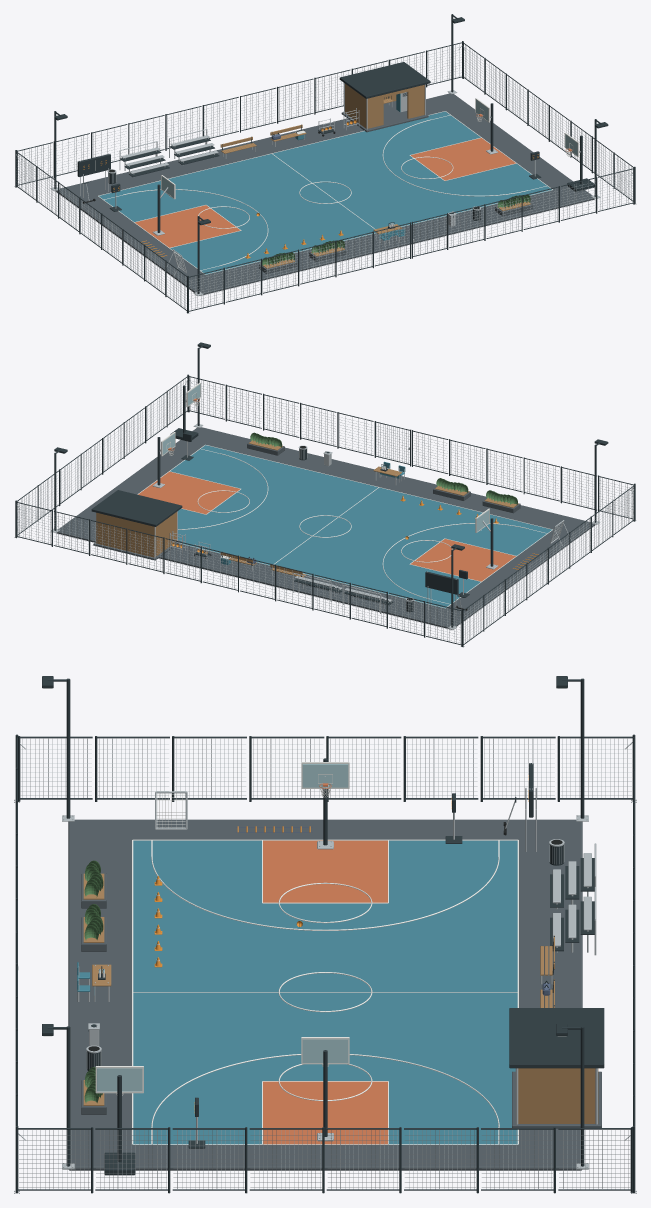
Rendered from park_bench.glb.
3 renders of one model, top to bottom at view 1: azimuth 30°, elevation 25°; view 2: azimuth 150°, elevation 25°; view 3: azimuth 270°, elevation 25°, orthographic. The views are drawn at different scales.
Visible parts, largest first — view 1: 000-marked-court-slab/1, 000-marked-court-slab/0, 000-marked-court-slab/2, 000-marked-court-slab/3, 003-changing-pavilion/2, 003-changing-pavilion/1, 003-changing-pavilion/0, 082-fence-straight/1, 011-scoreboard/1, 076-fence-straight/1, 077-fence-gate/1, 005-bleacher-section/0 (+21 smaller); view 2: 000-marked-court-slab/1, 000-marked-court-slab/0, 000-marked-court-slab/2, 003-changing-pavilion/1, 000-marked-court-slab/3, 003-changing-pavilion/2, 077-fence-gate/1, 062-fence-straight/1, 063-fence-straight/1, 053-fence-straight/1, 073-fence-straight/1, 059-fence-straight/1 (+19 smaller); view 3: 000-marked-court-slab/1, 000-marked-court-slab/0, 000-marked-court-slab/2, 000-marked-court-slab/3, 003-changing-pavilion/2, 003-changing-pavilion/1, 069-fence-straight/1, 089-fence-straight/1, 067-fence-straight/1, 070-fence-straight/1, 068-fence-straight/1, 065-fence-straight/1 (+23 smaller).
Part boxes in pixels (x1=…): 000-marked-court-slab/1: x1=98, y1=111, x2=551, y2=274; 000-marked-court-slab/0: x1=55, y1=93, x2=594, y2=295; 000-marked-court-slab/2: x1=135, y1=138, x2=515, y2=247; 000-marked-court-slab/3: x1=98, y1=111, x2=552, y2=274; 003-changing-pavilion/2: x1=339, y1=62, x2=430, y2=99; 003-changing-pavilion/1: x1=345, y1=84, x2=424, y2=128; 003-changing-pavilion/0: x1=341, y1=101, x2=428, y2=132; 082-fence-straight/1: x1=226, y1=260, x2=260, y2=300; 011-scoreboard/1: x1=77, y1=154, x2=110, y2=176; 076-fence-straight/1: x1=450, y1=206, x2=483, y2=246; 077-fence-gate/1: x1=413, y1=215, x2=446, y2=255; 005-bleacher-section/0: x1=119, y1=141, x2=168, y2=177; 000-marked-court-slab/1: x1=170, y1=445, x2=551, y2=608; 000-marked-court-slab/0: x1=56, y1=427, x2=594, y2=629; 000-marked-court-slab/2: x1=138, y1=471, x2=515, y2=581; 003-changing-pavilion/1: x1=96, y1=512, x2=176, y2=557; 000-marked-court-slab/3: x1=137, y1=444, x2=552, y2=608; 003-changing-pavilion/2: x1=91, y1=490, x2=182, y2=526; 077-fence-gate/1: x1=376, y1=423, x2=409, y2=463; 062-fence-straight/1: x1=54, y1=513, x2=88, y2=552; 063-fence-straight/1: x1=17, y1=503, x2=51, y2=543; 053-fence-straight/1: x1=389, y1=594, x2=423, y2=634; 073-fence-straight/1: x1=227, y1=387, x2=261, y2=426; 059-fence-straight/1: x1=166, y1=540, x2=199, y2=580; 000-marked-court-slab/1: x1=133, y1=840, x2=517, y2=1145; 000-marked-court-slab/0: x1=68, y1=819, x2=582, y2=1170; 000-marked-court-slab/2: x1=263, y1=840, x2=387, y2=1144; 000-marked-court-slab/3: x1=132, y1=839, x2=518, y2=1144; 003-changing-pavilion/2: x1=509, y1=1008, x2=604, y2=1068; 003-changing-pavilion/1: x1=518, y1=1068, x2=598, y2=1123; 069-fence-straight/1: x1=173, y1=1130, x2=244, y2=1188; 089-fence-straight/1: x1=406, y1=738, x2=477, y2=797; 067-fence-straight/1: x1=328, y1=1130, x2=398, y2=1188; 070-fence-straight/1: x1=96, y1=1130, x2=166, y2=1188; 068-fence-straight/1: x1=250, y1=1130, x2=321, y2=1188; 065-fence-straight/1: x1=482, y1=1130, x2=552, y2=1188.
Size of the model in its own units: 36.23 by 6.18 by 24.23.
